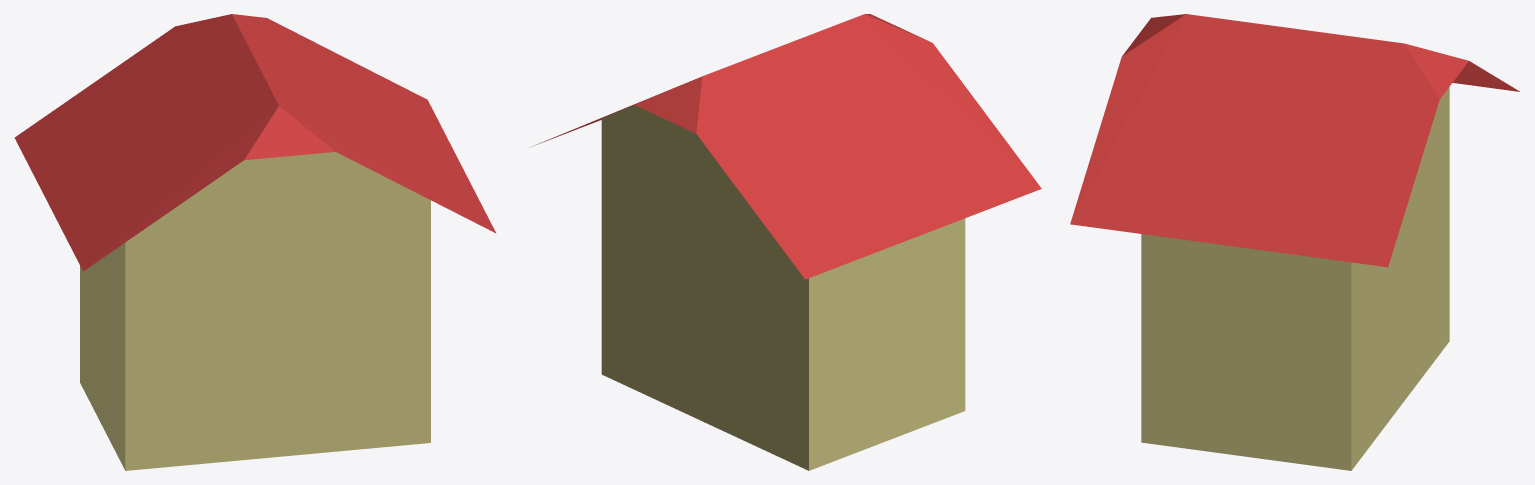
3 renders of one model, left to right at view 1: azimuth 30°, elevation 25°; view 2: azimuth 150°, elevation 25°; view 3: azimuth 270°, elevation 25°, orthographic. The views are drawn at different scales.
Parts seen in each view (by area): view 1: group_5, group_3, group_4; view 2: group_5, group_3, group_4; view 3: group_5, group_3, group_4.
Part boxes in pixels (<box>): group_5: <box>80,152,430,470</box>; group_3: <box>15,14,494,271</box>; group_4: <box>15,14,496,266</box>; group_5: <box>601,105,965,470</box>; group_3: <box>531,14,1041,279</box>; group_4: <box>572,14,1038,278</box>; group_5: <box>1141,87,1449,470</box>; group_3: <box>1070,14,1519,266</box>; group_4: <box>1070,15,1519,267</box>.
Bounding box in the file's own units: 18.23 × 15.91 × 14.14.
